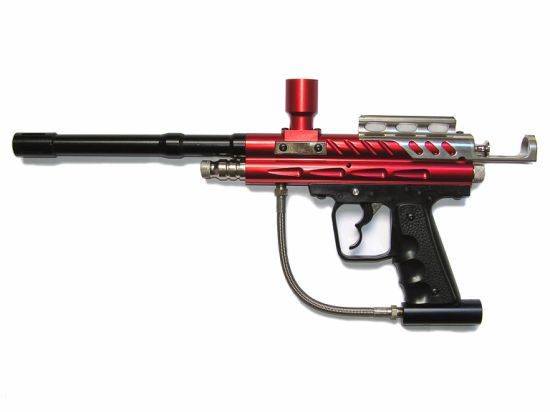Arma Falsa: (11, 76, 542, 333)
